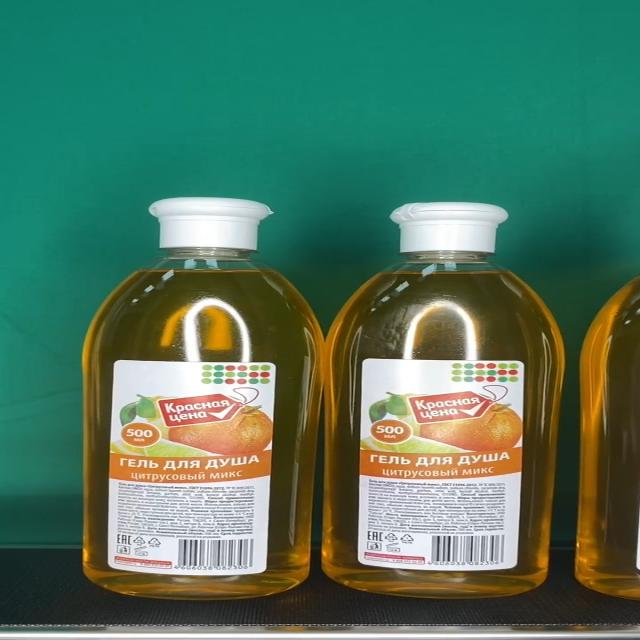Bottle: (81, 197, 323, 600), (324, 202, 566, 600)
Cap: (148, 198, 273, 248), (390, 202, 510, 253)
